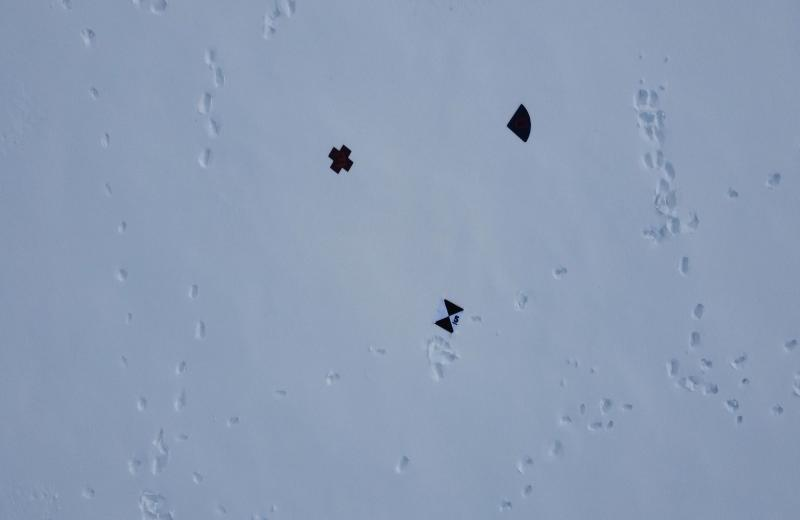Cross: (324, 144, 356, 178)
Quarter Circle: (505, 102, 533, 150)
